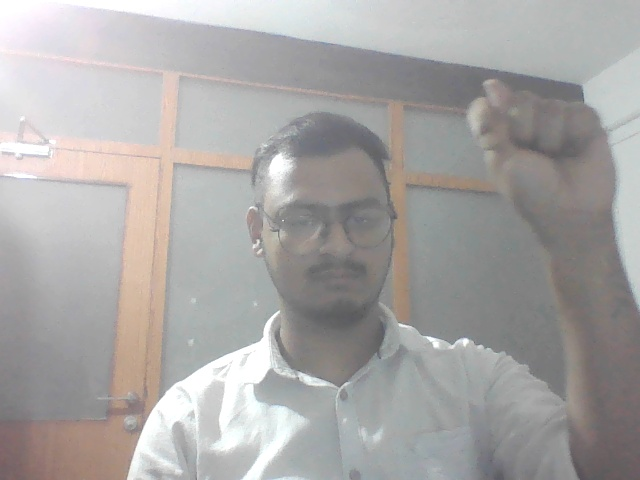Toilet: (460, 71, 625, 233)
